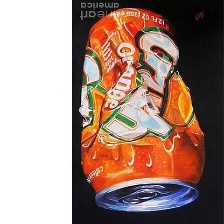can: (76, 4, 207, 214)
